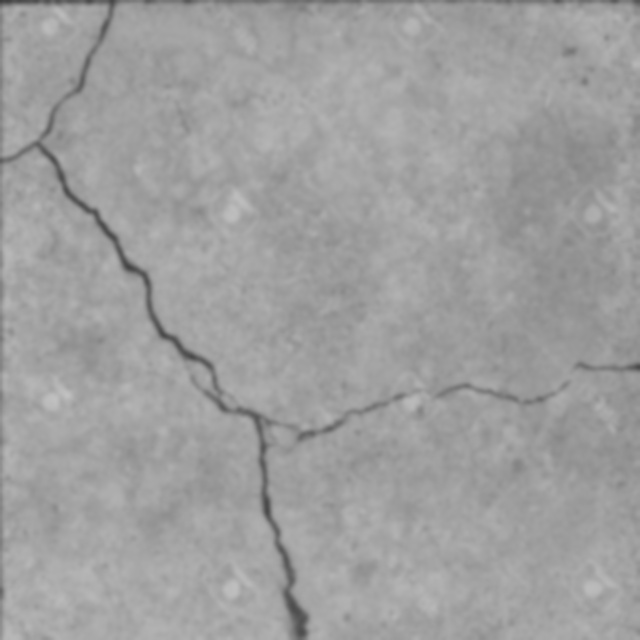SurfaceCrack: (2, 0, 345, 640), (227, 300, 640, 465)
